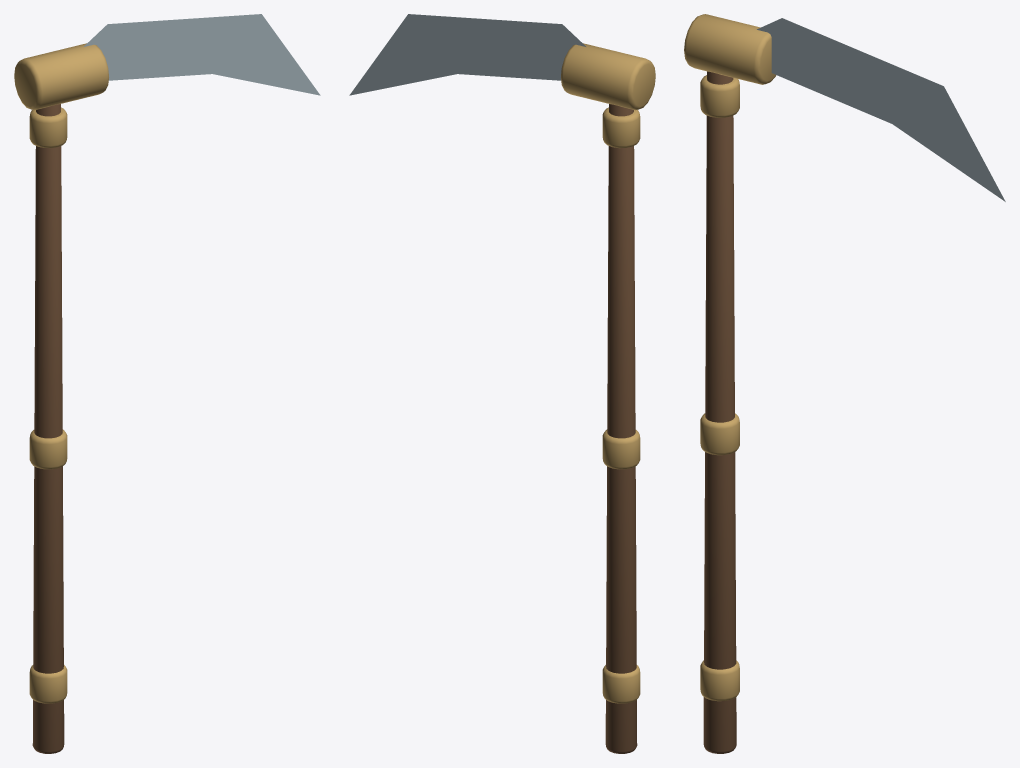
File: field_scythe.glb
The picture shows the model from 3 angles, left to right: view 1: azimuth 30°, elevation 25°; view 2: azimuth 150°, elevation 25°; view 3: azimuth 330°, elevation 25°; orthographic projection. The views are drawn at different scales.
Visible parts, largest first — view 1: Carved shaft, Harvesting crescent, Scythe collar, Brass ferrule.002, Brass ferrule.001, Brass ferrule; view 2: Carved shaft, Harvesting crescent, Scythe collar, Brass ferrule.002, Brass ferrule.001, Brass ferrule; view 3: Carved shaft, Harvesting crescent, Scythe collar, Brass ferrule.002, Brass ferrule.001, Brass ferrule.
Part boxes in pixels (<box>): Carved shaft: <box>32,104,64,753</box>; Harvesting crescent: <box>84,14,320,95</box>; Scythe collar: <box>14,43,108,110</box>; Brass ferrule.002: <box>29,107,67,148</box>; Brass ferrule.001: <box>29,429,67,469</box>; Brass ferrule: <box>29,665,67,703</box>; Carved shaft: <box>605,104,637,753</box>; Harvesting crescent: <box>349,14,585,95</box>; Scythe collar: <box>561,43,655,110</box>; Brass ferrule.002: <box>602,107,640,148</box>; Brass ferrule.001: <box>602,429,640,469</box>; Brass ferrule: <box>602,665,640,703</box>; Carved shaft: <box>703,71,736,753</box>; Harvesting crescent: <box>757,18,1005,201</box>; Scythe collar: <box>684,14,776,84</box>; Brass ferrule.002: <box>700,75,739,117</box>; Brass ferrule.001: <box>700,413,739,455</box>; Brass ferrule: <box>700,660,739,701</box>.
Bounding box in the file's own units: 0.9 × 2.07 × 0.14.
